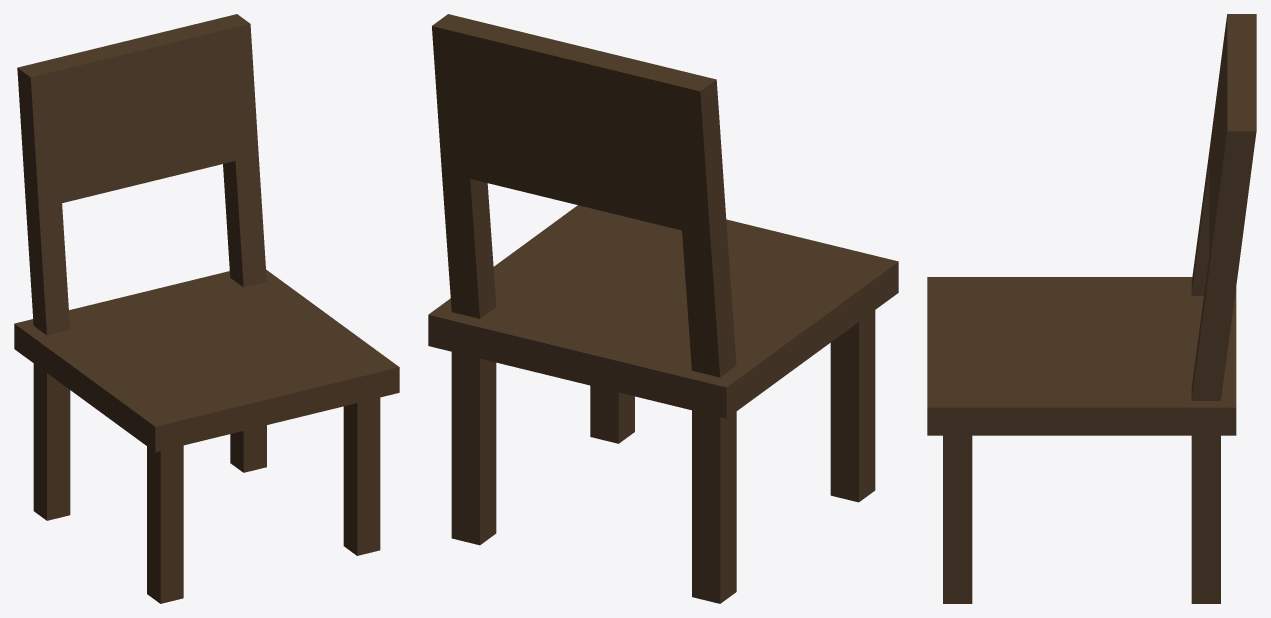
Rendered from Chair.fbx.
3 renders of one model, left to right at view 1: azimuth 30°, elevation 25°; view 2: azimuth 150°, elevation 25°; view 3: azimuth 270°, elevation 25°, orthographic. The views are drawn at different scales.
Parts seen in each view (by area): view 1: Cube; view 2: Cube; view 3: Cube.
Part boxes in pixels (left/top/right/bottom): Cube: left=14, top=14, right=399, bottom=603; Cube: left=428, top=14, right=898, bottom=603; Cube: left=927, top=14, right=1256, bottom=603.
Size of the model in its own units: 400 by 675 by 426.
